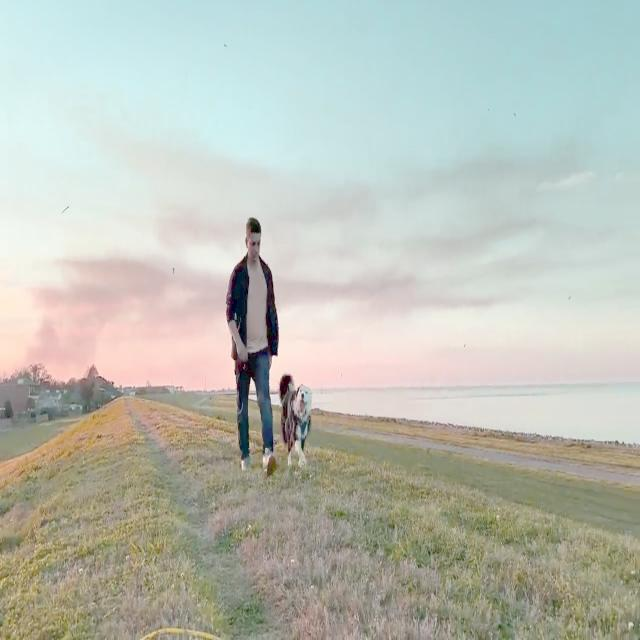Unleashed_Dog: (244, 352, 312, 468)
